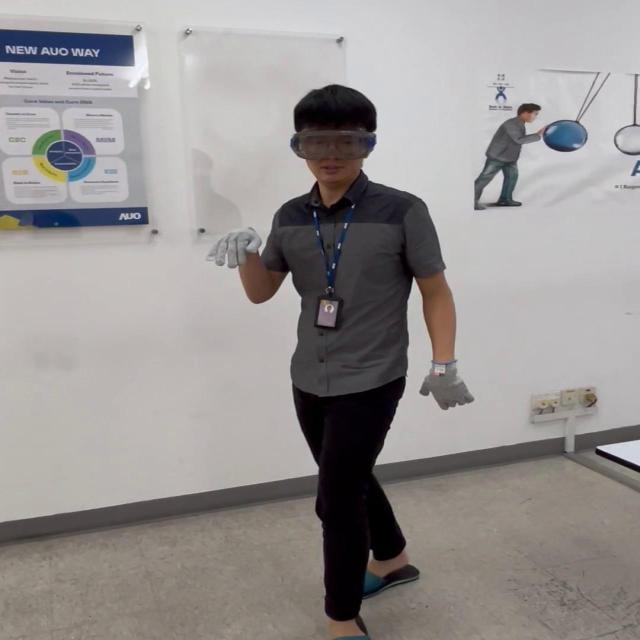gloved_hand: (421, 356, 474, 416), (210, 224, 262, 271)
